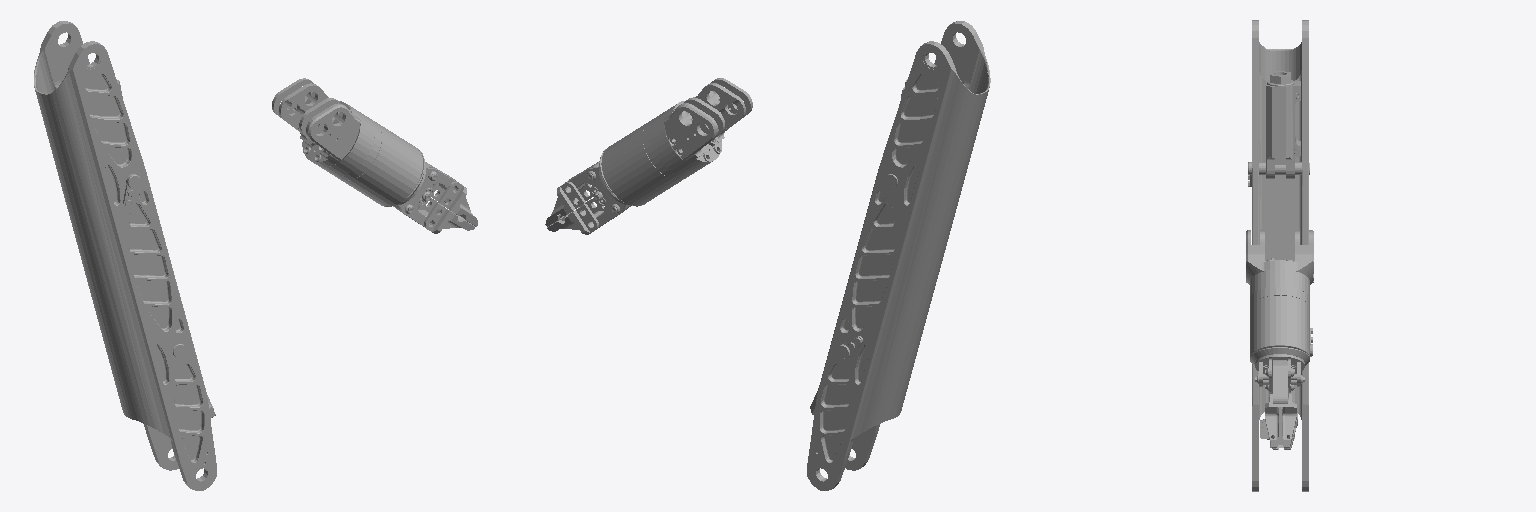
URDF robot description (orion):
<?xml version="1.0" encoding="utf-8"?>
<robot name="orion">

  <!-- ==================== LINKS ==================== -->

  <link name="arm_base_link">
    <visual>
      <geometry><mesh filename="meshes/stl/arm_base_link_right.stl"/></geometry>
      <material name="grey"><color rgba="0.7 0.7 0.7 1.0"/></material>
    </visual>
    <inertial>
      <mass value="1.0"/>
      <inertia ixx="0.01" ixy="0.0" ixz="0.0" iyy="0.01" iyz="0.0" izz="0.01"/>
    </inertial>
  </link>

  <link name="Link1">
    <visual>
      <geometry><mesh filename="meshes/stl/Link1.stl"/></geometry>
      <material name="grey"><color rgba="0.7 0.7 0.7 1.0"/></material>
    </visual>
    <inertial>
      <mass value="1.0"/>
      <inertia ixx="0.01" ixy="0.0" ixz="0.0" iyy="0.01" iyz="0.0" izz="0.01"/>
    </inertial>
  </link>

  <link name="Link2">
    <visual>
      <geometry><mesh filename="meshes/stl/Link2.stl"/></geometry>
      <material name="grey"><color rgba="0.7 0.7 0.7 1.0"/></material>
    </visual>
    <inertial>
      <mass value="1.0"/>
      <inertia ixx="0.01" ixy="0.0" ixz="0.0" iyy="0.01" iyz="0.0" izz="0.01"/>
    </inertial>
  </link>

  <link name="Link3">
    <visual>
      <geometry><mesh filename="meshes/stl/Link3.stl"/></geometry>
      <material name="grey"><color rgba="0.7 0.7 0.7 1.0"/></material>
    </visual>
    <inertial>
      <mass value="1.0"/>
      <inertia ixx="0.01" ixy="0.0" ixz="0.0" iyy="0.01" iyz="0.0" izz="0.01"/>
    </inertial> 
  </link>

  <link name="LinkVirtual">
    <!-- Virtual/intermediate link, no geometry -->
    <inertial>
      <mass value="0.001"/>
      <inertia ixx="0.0001" ixy="0.0" ixz="0.0" iyy="0.0001" iyz="0.0" izz="0.0001"/>
    </inertial>
  </link>

  <link name="Link4">
    <visual>
      <geometry><mesh filename="meshes/stl/Link4.stl"/></geometry>
      <material name="grey"><color rgba="0.7 0.7 0.7 1.0"/></material>
    </visual>
    <inertial>
      <mass value="1.0"/>
      <inertia ixx="0.01" ixy="0.0" ixz="0.0" iyy="0.01" iyz="0.0" izz="0.01"/>
    </inertial>
  </link>

  <link name="Link5">
    <visual>
      <geometry><mesh filename="meshes/stl/Link5.stl"/></geometry>
      <material name="grey"><color rgba="0.7 0.7 0.7 1.0"/></material>
    </visual>
    <inertial>
      <mass value="1.0"/>
      <inertia ixx="0.01" ixy="0.0" ixz="0.0" iyy="0.01" iyz="0.0" izz="0.01"/>
    </inertial>
  </link>

  <link name="Link6">
    <visual>
      <geometry><mesh filename="meshes/stl/Link6.stl"/></geometry>
      <material name="grey"><color rgba="0.7 0.7 0.7 1.0"/></material>
    </visual>
    <inertial>
      <mass value="1.0"/>
      <inertia ixx="0.01" ixy="0.0" ixz="0.0" iyy="0.01" iyz="0.0" izz="0.01"/>
    </inertial>
  </link>

  <link name="Link7">
    <visual>
      <geometry><mesh filename="meshes/stl/Link7.stl"/></geometry>
      <material name="grey"><color rgba="0.7 0.7 0.7 1.0"/></material>
    </visual>
    <inertial>
      <mass value="1.0"/>
      <inertia ixx="0.01" ixy="0.0" ixz="0.0" iyy="0.01" iyz="0.0" izz="0.01"/>
    </inertial>
  </link>

  <link name="Link8">
    <visual>
      <geometry><mesh filename="meshes/stl/Link8.stl"/></geometry>
      <material name="grey"><color rgba="0.7 0.7 0.7 1.0"/></material>
    </visual>
    <inertial>
      <mass value="1.0"/>
      <inertia ixx="0.01" ixy="0.0" ixz="0.0" iyy="0.01" iyz="0.0" izz="0.01"/>
    </inertial>
  </link>

  <!-- ==================== JOINTS ==================== -->
  <!-- 标称与 sealien_ctrlpilot_manipulator_orion_description/urdf/orion.urdf 一致：J1~J3/J5 ±120°，J4 ±180°，J6 continuous，夹爪 ±π -->

  <!-- arm_base_link -> Link1 : revolute, axis X, origin (0,0,0) rot (0,0,0) -->
  <joint name="joint_arm_base_link_Link1" type="revolute">
    <parent link="arm_base_link"/>
    <child link="Link1"/>
    <origin xyz="0.0 0.0 0.0" rpy="0.0 0.0 0.0"/>
    <axis xyz="1 0 0"/>
    <limit lower="-2.09440" upper="2.09440" effort="100" velocity="1.0"/>
  </joint>

  <!-- Link1 -> Link2 : revolute, axis Y, origin (-0.0105, 0, 0.0699) -->
  <joint name="joint_Link1_Link2" type="revolute">
    <parent link="Link1"/>
    <child link="Link2"/>
    <origin xyz="-0.0105 0.0 0.0699" rpy="0.0 0.0 0.0"/>
    <axis xyz="0 1 0"/>
    <limit lower="-2.09440" upper="2.09440" effort="100" velocity="1.0"/>
  </joint>

  <!-- Link2 -> Link3 : revolute, axis Y, origin (-0.2247, 0, 0.8662) -->
  <joint name="joint_Link2_Link3" type="revolute">
    <parent link="Link2"/>
    <child link="Link3"/>
    <origin xyz="-0.2247 0.0 0.8662" rpy="0.0 0.0 0.0"/>
    <axis xyz="0 1 0"/>
    <limit lower="-2.09440" upper="2.09440" effort="100" velocity="1.0"/>
  </joint>

  <!-- Link3 -> LinkVirtual : fixed, origin (0.1835, 0, 0.0157), rotation y=-227.578deg -->
  <!-- -227.578 deg = -227.578 * pi/180 = -3.97248 rad -->
  <joint name="joint_Link3_LinkVirtual" type="fixed">
    <parent link="Link3"/>
    <child link="LinkVirtual"/>
    <origin xyz="0.1835 0.0 0.0157" rpy="0.0 -3.97248 0.0"/>
  </joint>

  <!-- LinkVirtual -> Link4 : revolute, axis Z, origin (0,0,0) -->
  <joint name="joint_LinkVirtual_Link4" type="revolute">
    <parent link="LinkVirtual"/>
    <child link="Link4"/>
    <origin xyz="0.0 0.0 0.0" rpy="0.0 0.0 0.0"/>
    <axis xyz="0 0 1"/>
    <limit lower="-3.14159" upper="3.14159" effort="100" velocity="1.0"/>
  </joint>

  <!-- Link4 -> Link5 : revolute, axis Y, origin (0, -0.0091, 0.3784) -->
  <joint name="joint_Link4_Link5" type="revolute">
    <parent link="Link4"/>
    <child link="Link5"/>
    <origin xyz="0.0 -0.0091 0.3784" rpy="0.0 0.0 0.0"/>
    <axis xyz="0 1 0"/>
    <limit lower="-2.09440" upper="2.09440" effort="100" velocity="1.0"/>
  </joint>

  <!-- Link5 -> Link6 : continuous, axis Z, origin (-0.0113, 0.0091, 0.2516) -->
  <joint name="joint_Link5_Link6" type="continuous">
    <parent link="Link5"/>
    <child link="Link6"/>
    <origin xyz="-0.0113 0.0091 0.2516" rpy="0.0 0.0 0.0"/>
    <axis xyz="0 0 1"/>
    <limit effort="100" velocity="1.0"/>
  </joint>

  <!-- Link6 -> Link7 : revolute, axis Y, origin (0.0363, 0, 0.0499) -->
  <joint name="joint_Link6_Link7" type="revolute">
    <parent link="Link6"/>
    <child link="Link7"/>
    <origin xyz="0.0363 0.0 0.0499" rpy="0.0 0.0 0.0"/>
    <axis xyz="0 1 0"/>
    <limit lower="-1.57080" upper="1.57080" effort="100" velocity="1.0"/>
  </joint>

  <!-- Link6 -> Link8 : revolute, axis Y, origin (-0.0363, 0, 0.047) -->
  <joint name="joint_Link6_Link8" type="revolute">
    <parent link="Link6"/>
    <child link="Link8"/>
    <origin xyz="-0.0363 0.0 0.047" rpy="0.0 0.0 0.0"/>
    <axis xyz="0 1 0"/>
    <limit lower="-1.57080" upper="1.57080" effort="100" velocity="1.0"/>
  </joint>

</robot>

--- Render facts (derived) ---
The picture shows the robot from 3 angles, left to right: view 1: azimuth 30°, elevation 25°; view 2: azimuth 150°, elevation 25°; view 3: azimuth 270°, elevation 25°; orthographic projection.
Robot: orion — 10 links, 9 joints (7 revolute, 1 continuous, 1 fixed); root link arm_base_link; default pose: every joint at zero.
Visible links, largest first — view 1: Link2, Link5, Link8, Link7, Link6; view 2: Link2, Link5, Link7, Link8, Link6; view 3: Link2, Link5, Link8, Link6.
Link boxes in pixels (box(x1,y1,x2,y2)): Link2: box(34, 21, 216, 490); Link5: box(272, 78, 422, 205); Link8: box(425, 162, 477, 226); Link7: box(393, 198, 474, 233); Link6: box(381, 148, 438, 215); Link2: box(807, 21, 990, 490); Link5: box(601, 78, 752, 205); Link7: box(547, 198, 629, 234); Link8: box(545, 161, 599, 226); Link6: box(586, 149, 644, 214); Link2: box(1248, 20, 1312, 491); Link5: box(1246, 230, 1313, 356); Link8: box(1265, 360, 1296, 447); Link6: box(1250, 347, 1309, 392).
Bounding box of the posed robot: 0.895 × 0.1365 × 0.9294 m (x, y, z).
Meshes: 9 distinct files referenced, 5 mesh visuals loaded (5 binary STL); not drawn: 4 (reference not matched to a file when rendering).
